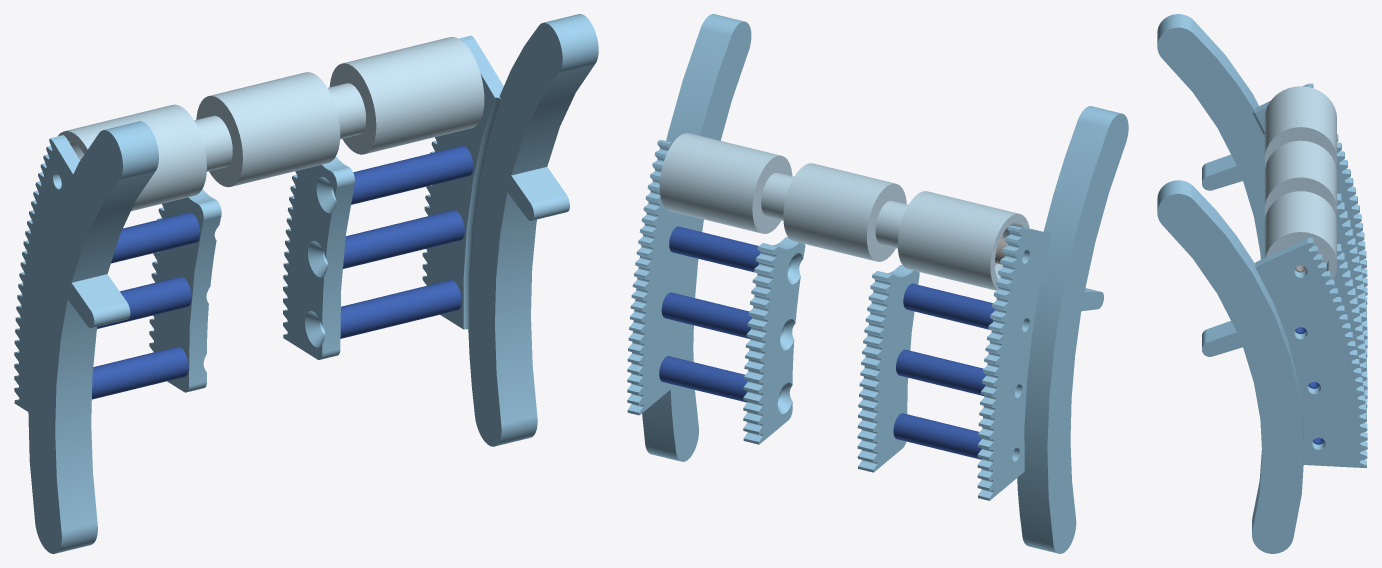
3 views of the same model, side by side, from view 1: azimuth 30°, elevation 25°; view 2: azimuth 150°, elevation 25°; view 3: azimuth 270°, elevation 25° (orthographic). The views are drawn at different scales.
Visible parts, largest first — view 1: Adjustable Hood Assembly <1>; view 2: Adjustable Hood Assembly <1>; view 3: Adjustable Hood Assembly <1>.
Boxes of the visible parts, box(x1,y1,x2,y2) form: Adjustable Hood Assembly <1>: box(14, 14, 598, 553); Adjustable Hood Assembly <1>: box(627, 14, 1128, 553); Adjustable Hood Assembly <1>: box(1157, 14, 1367, 553).
Bounding box in the file's own units: 0.1676 × 0.1565 × 0.0828.
